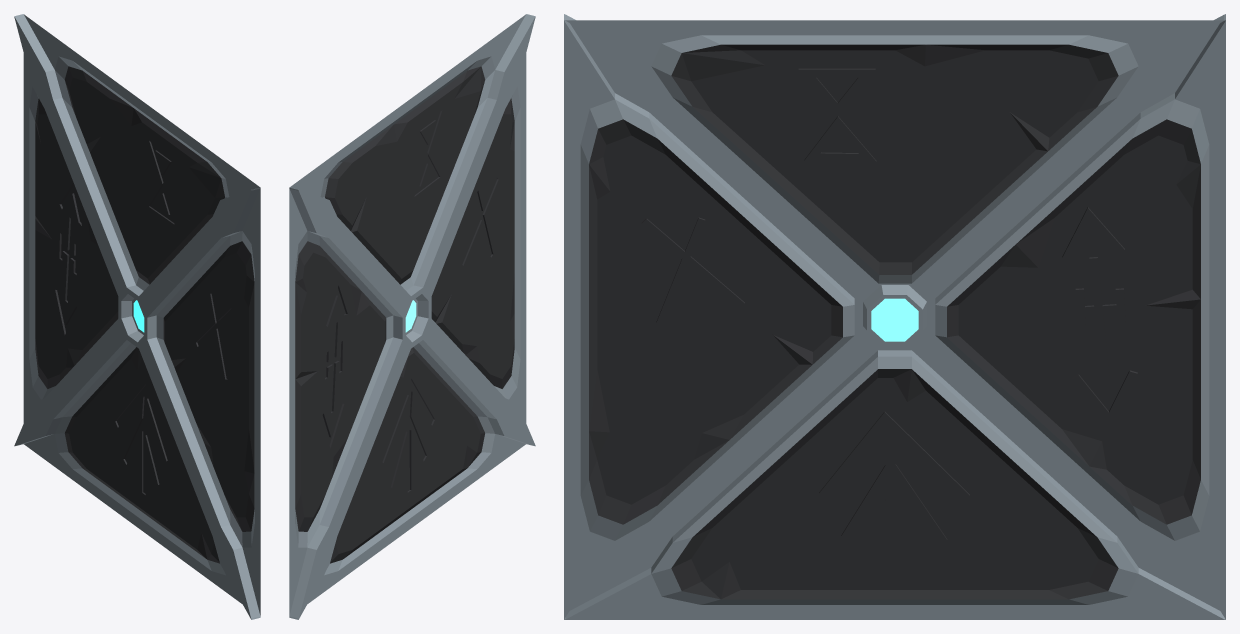
The model's file is Wall_Large_Square.fbx.
3 renders of one model, left to right at view 1: azimuth 30°, elevation 25°; view 2: azimuth 150°, elevation 25°; view 3: azimuth 270°, elevation 25°, orthographic. The views are drawn at different scales.
Visible parts, largest first — view 1: Wall_Large_Square; view 2: Wall_Large_Square; view 3: Wall_Large_Square.
Part boxes in pixels (<box>): Wall_Large_Square: <box>14,14,260,619</box>; Wall_Large_Square: <box>289,14,535,619</box>; Wall_Large_Square: <box>564,14,1225,619</box>.
Size of the model in its own units: 0.4702 by 16 by 16.
